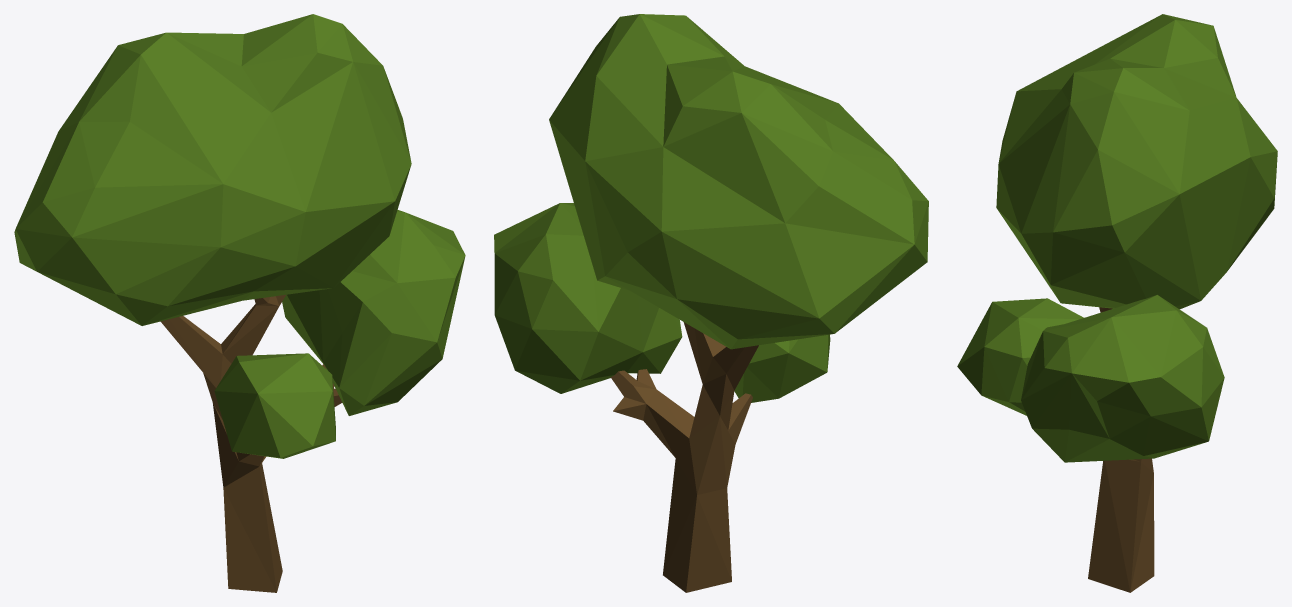
The picture shows the model from 3 angles, left to right: view 1: azimuth 30°, elevation 25°; view 2: azimuth 150°, elevation 25°; view 3: azimuth 270°, elevation 25°; orthographic projection. The views are drawn at different scales.
Parts seen in each view (by area): view 1: Tree1_1; view 2: Tree1_1; view 3: Tree1_1.
Part boxes in pixels (<box>): Tree1_1: <box>14,14,465,592</box>; Tree1_1: <box>494,14,928,592</box>; Tree1_1: <box>957,14,1277,592</box>.
Size of the model in its own units: 5.97 by 7.35 by 3.97.
